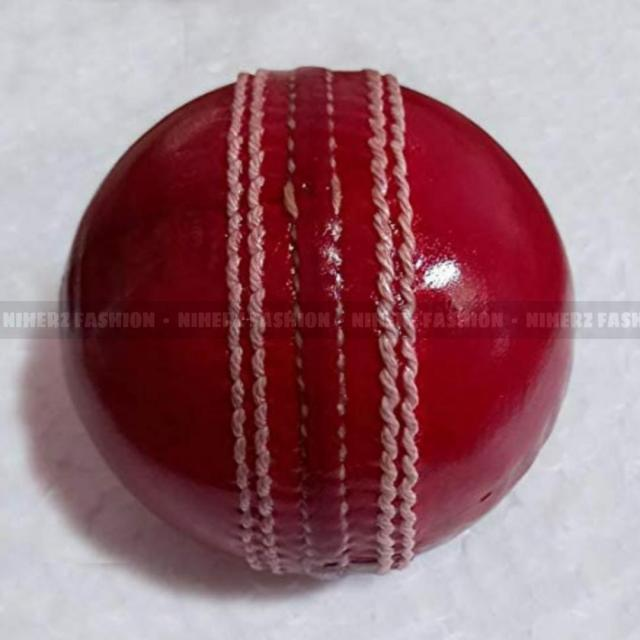ball: (60, 69, 575, 571)
